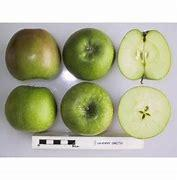apple: (57, 86, 119, 136), (116, 83, 171, 137), (7, 83, 66, 133), (58, 28, 115, 78), (119, 28, 173, 80), (5, 33, 60, 78)
